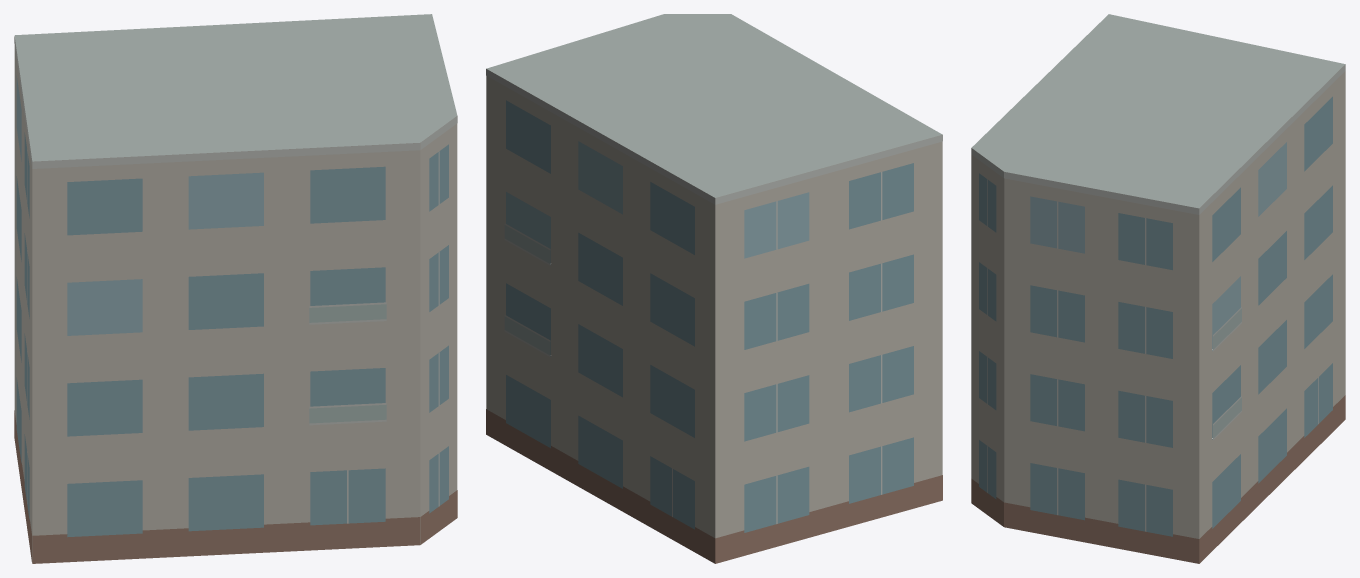
File: survey-upis-32479170.glb
The picture shows the model from 3 angles, left to right: view 1: azimuth 30°, elevation 25°; view 2: azimuth 150°, elevation 25°; view 3: azimuth 270°, elevation 25°; orthographic projection. The views are drawn at different scales.
Visible parts, largest first — view 1: survey-upis-32479170.tmp; view 2: survey-upis-32479170.tmp; view 3: survey-upis-32479170.tmp.
Part boxes in pixels (x1,y1,x2,y2): survey-upis-32479170.tmp: (14, 14, 457, 563); survey-upis-32479170.tmp: (486, 14, 942, 563); survey-upis-32479170.tmp: (971, 14, 1345, 563).
Bounding box in the file's own units: 15.38 × 13.1 × 12.51.
